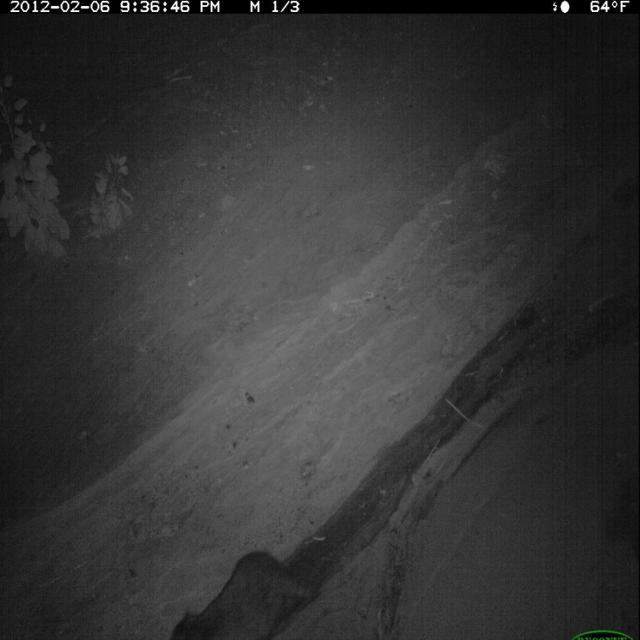raccoon: (165, 546, 321, 640)
